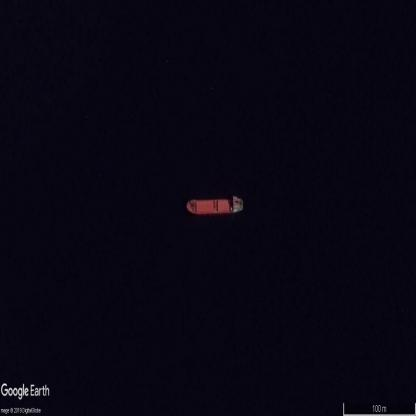ship: (187, 196, 244, 214)
